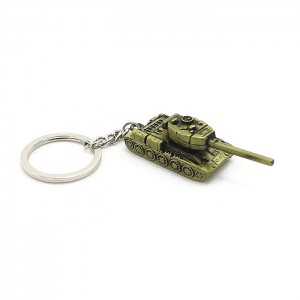Battle Tank: (116, 104, 277, 196)
